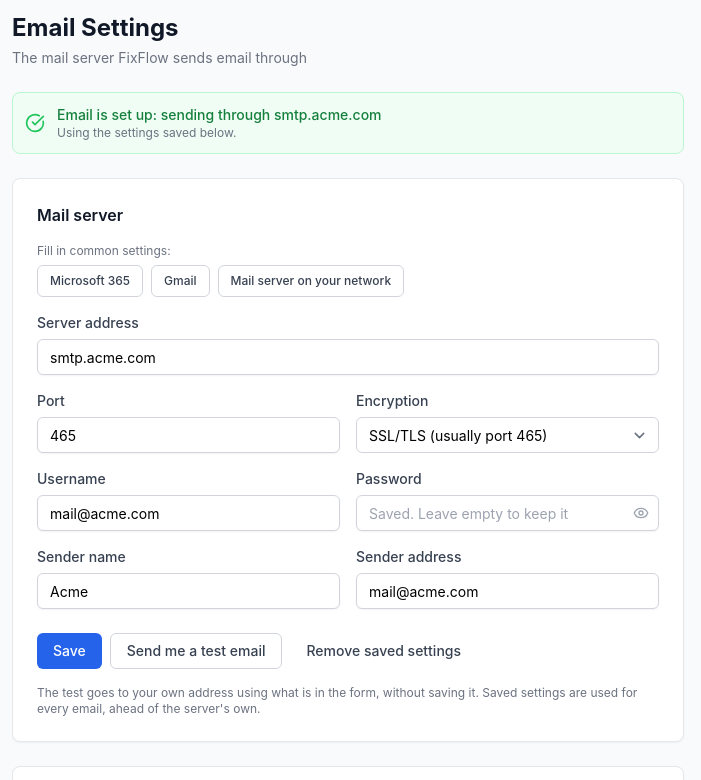
EmailSettingsPage › shows why a test failed, in the page, until the form changes
The width and height of the screenshot is (701, 780).
Click the button "Send me a test email" at (196, 651), box [110, 633, 282, 669]
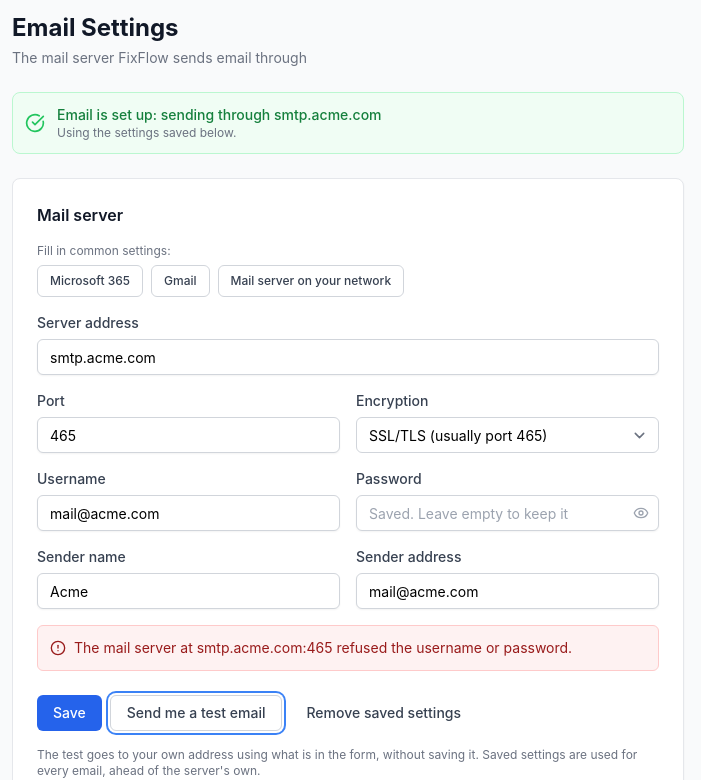
Result: the message shows "refused the username or password" at [74, 639, 572, 656]
Type "x" into the password field labelled "Password" at (508, 513), box [356, 495, 659, 531]
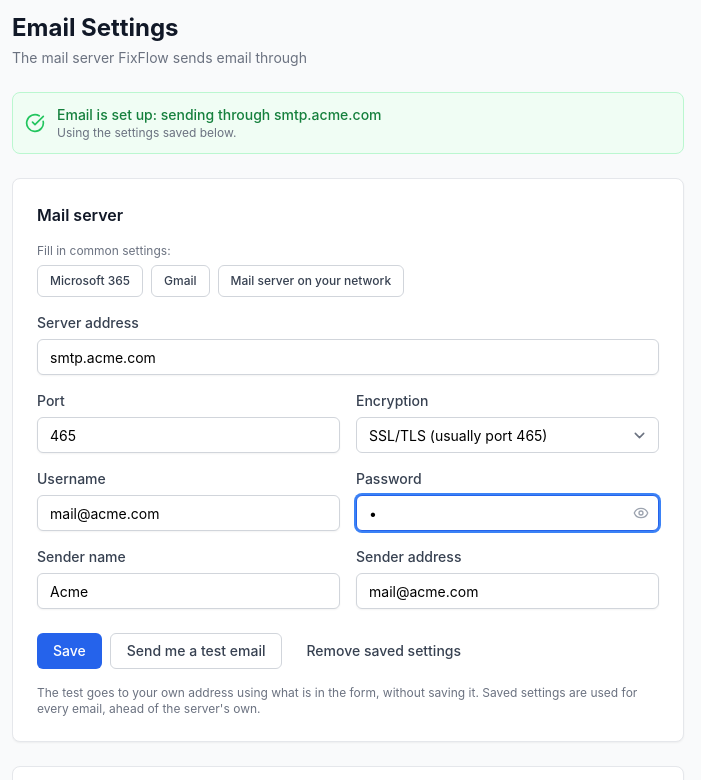
Result: the message "The mail server at smtp.acme.com:465 refused the username or password." is gone
